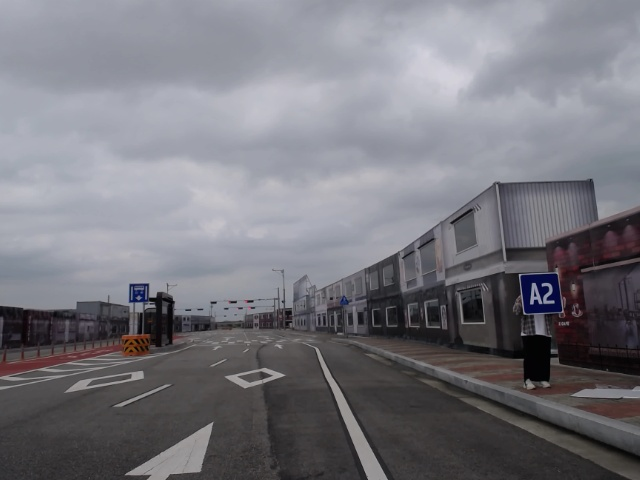delivery_a2: (519, 272, 563, 315)
